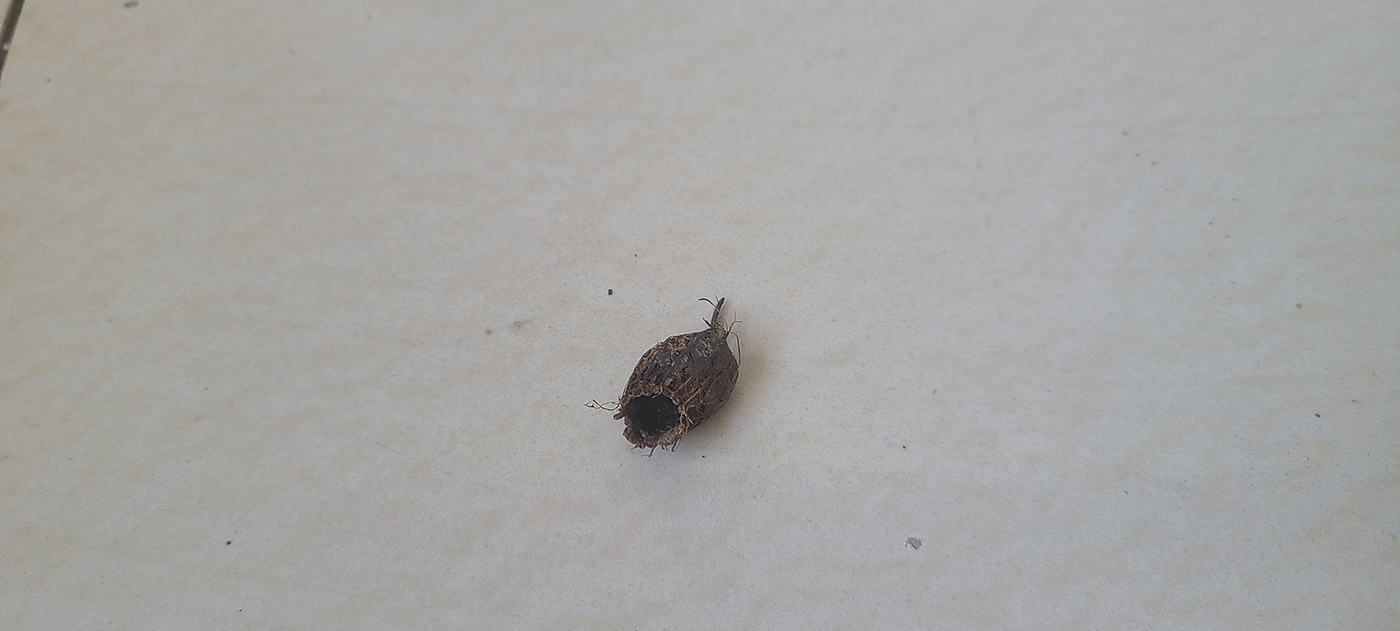l: (611, 323, 742, 449)
